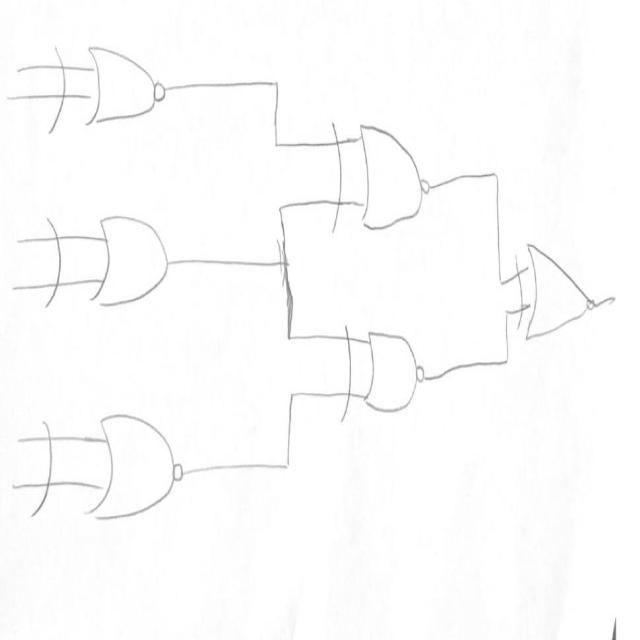XNOR: (33, 400, 198, 534), (324, 106, 449, 256), (44, 41, 180, 156), (339, 304, 441, 440), (508, 228, 612, 346)
XOR: (33, 202, 178, 332)
